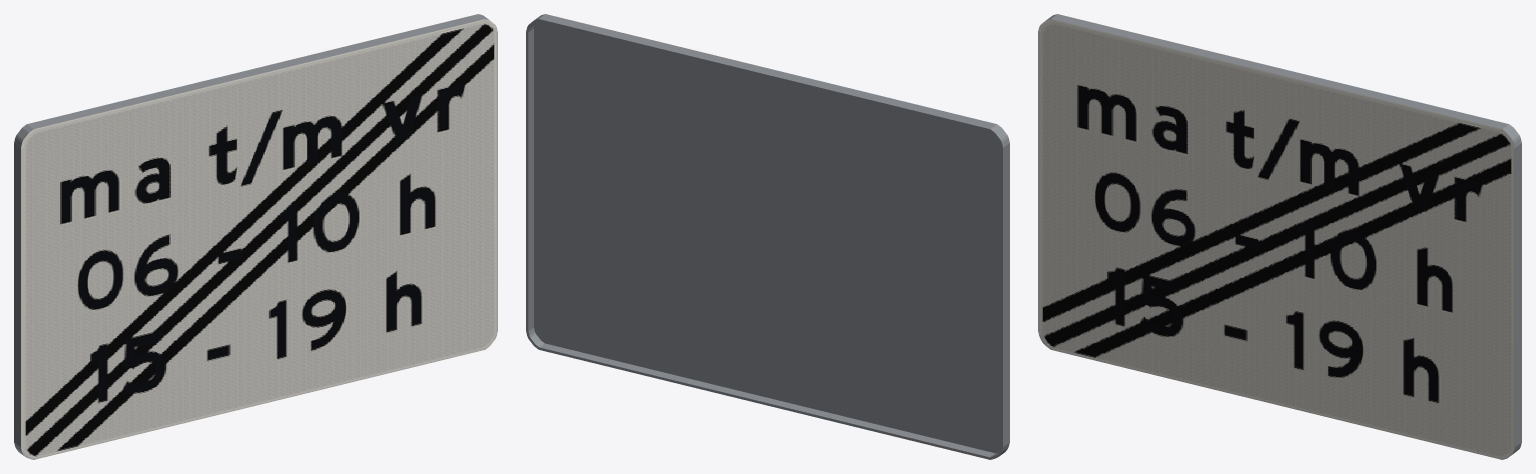
3 renders of one model, left to right at view 1: azimuth 30°, elevation 25°; view 2: azimuth 150°, elevation 25°; view 3: azimuth 330°, elevation 25°, orthographic.
Parts seen in each view (by area): view 1: cat_ee9ad80e61a8c0d7; view 2: cat_ee9ad80e61a8c0d7; view 3: cat_ee9ad80e61a8c0d7.
Boxes of the visible parts, x1,y1,x2,y2 form: cat_ee9ad80e61a8c0d7: (14,14,497,459); cat_ee9ad80e61a8c0d7: (526,14,1009,459); cat_ee9ad80e61a8c0d7: (1038,14,1521,459).
Size of the model in its own units: 0.6 by 0.015 by 0.3976.
2 materials, 1 textured.
